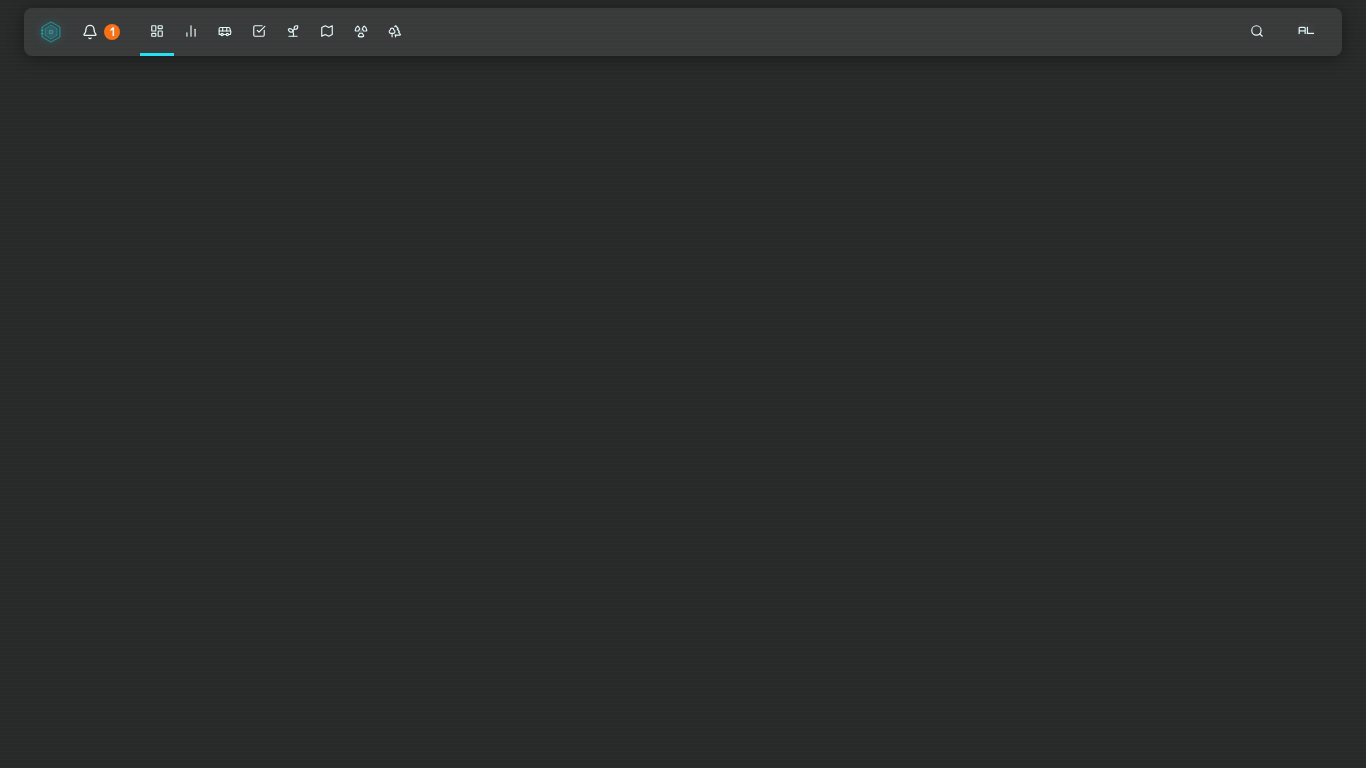
Test case: Navbar – join requests (collaborator view) › shows an error message when declineJoinRequest rejects
This screenshot has width=1366, height=768.
Click the button named "1 pending join request". click: [101, 32]
box: [74,8,128,56]
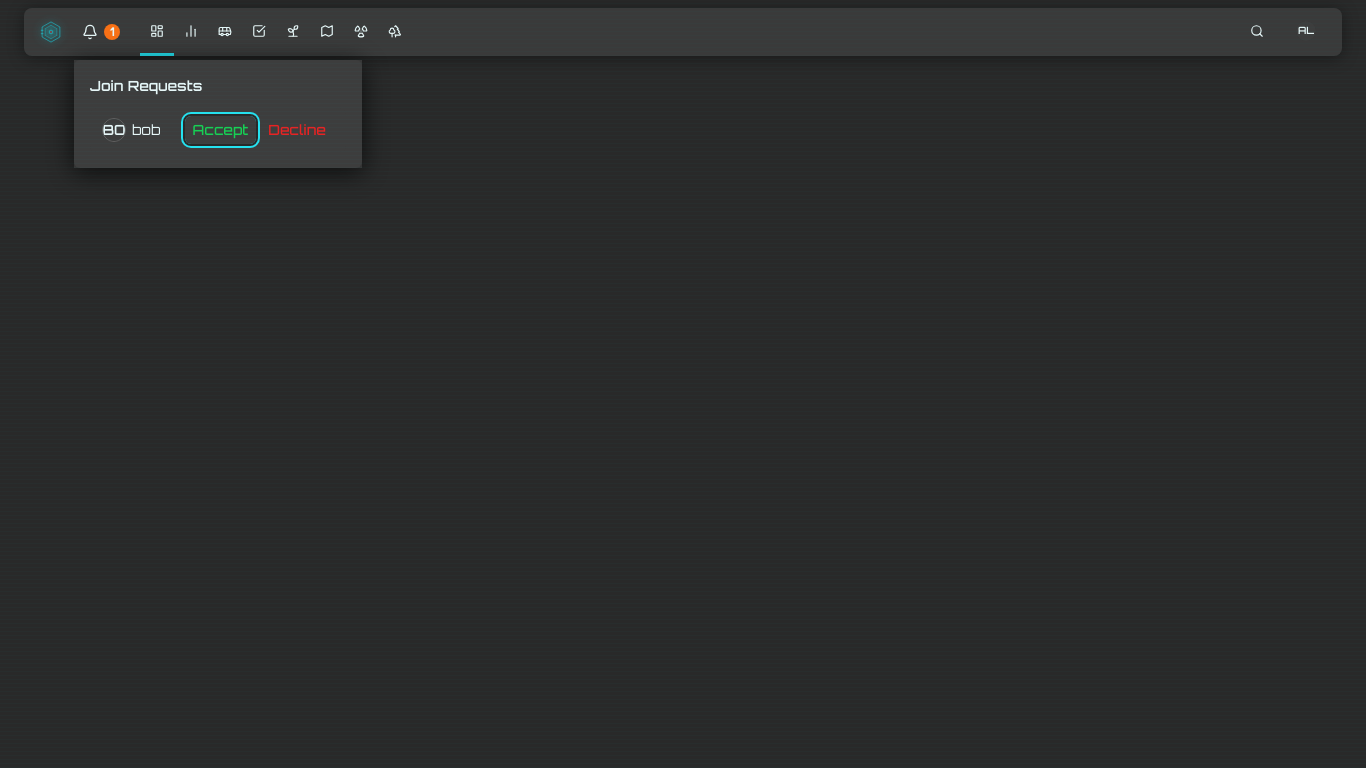
Expected: the text "bob" is shown, [132,120,160,140]
Click the button "Decline". click: [297, 130]
box: [260,116,334,144]
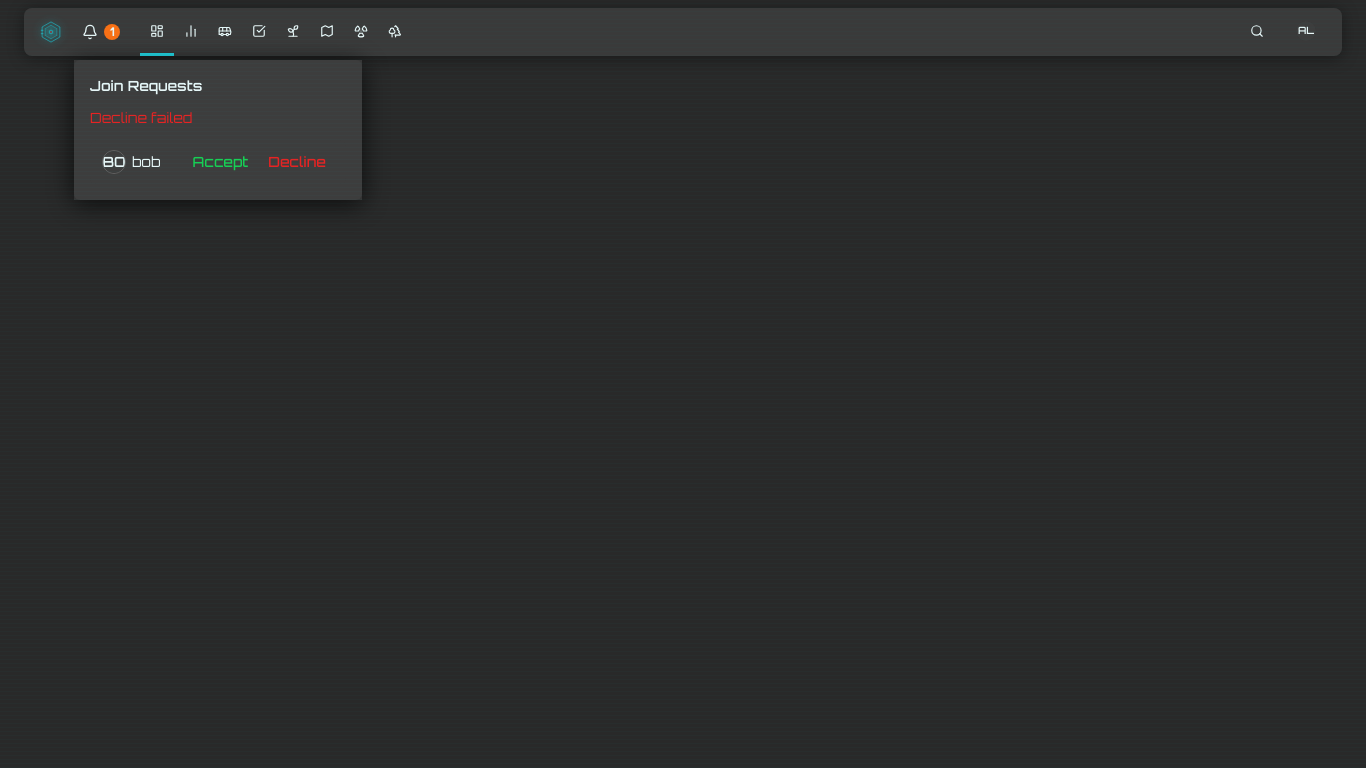
Expected: the text "Decline failed" is shown, [90,109,192,126]
